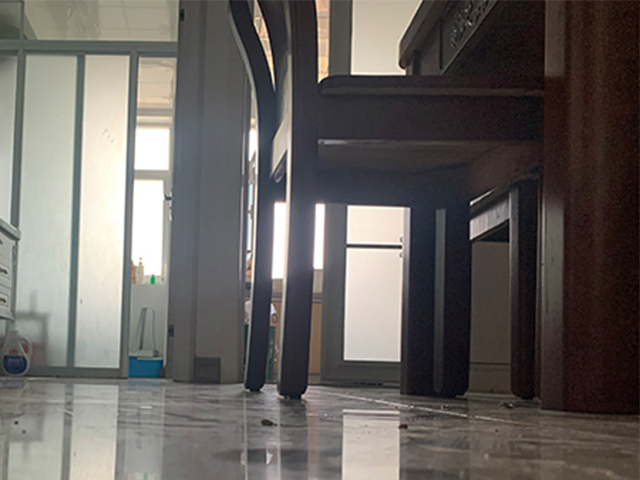stool: (227, 1, 538, 400)
